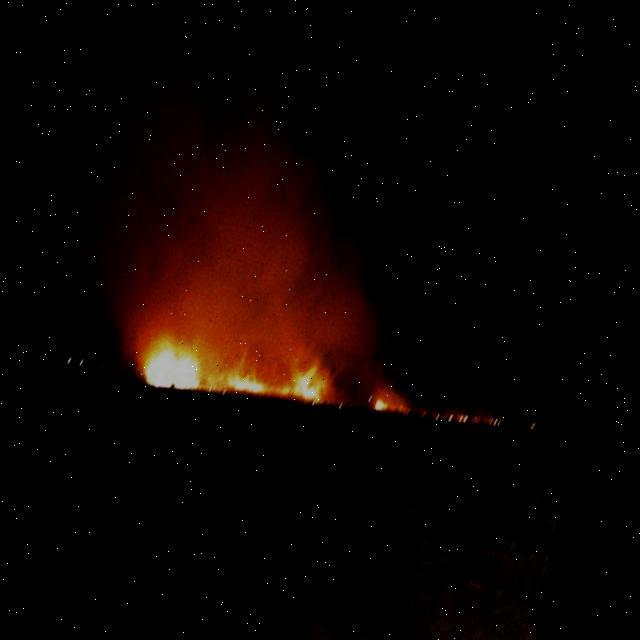Fire: (152, 327, 343, 398), (385, 384, 400, 399)
